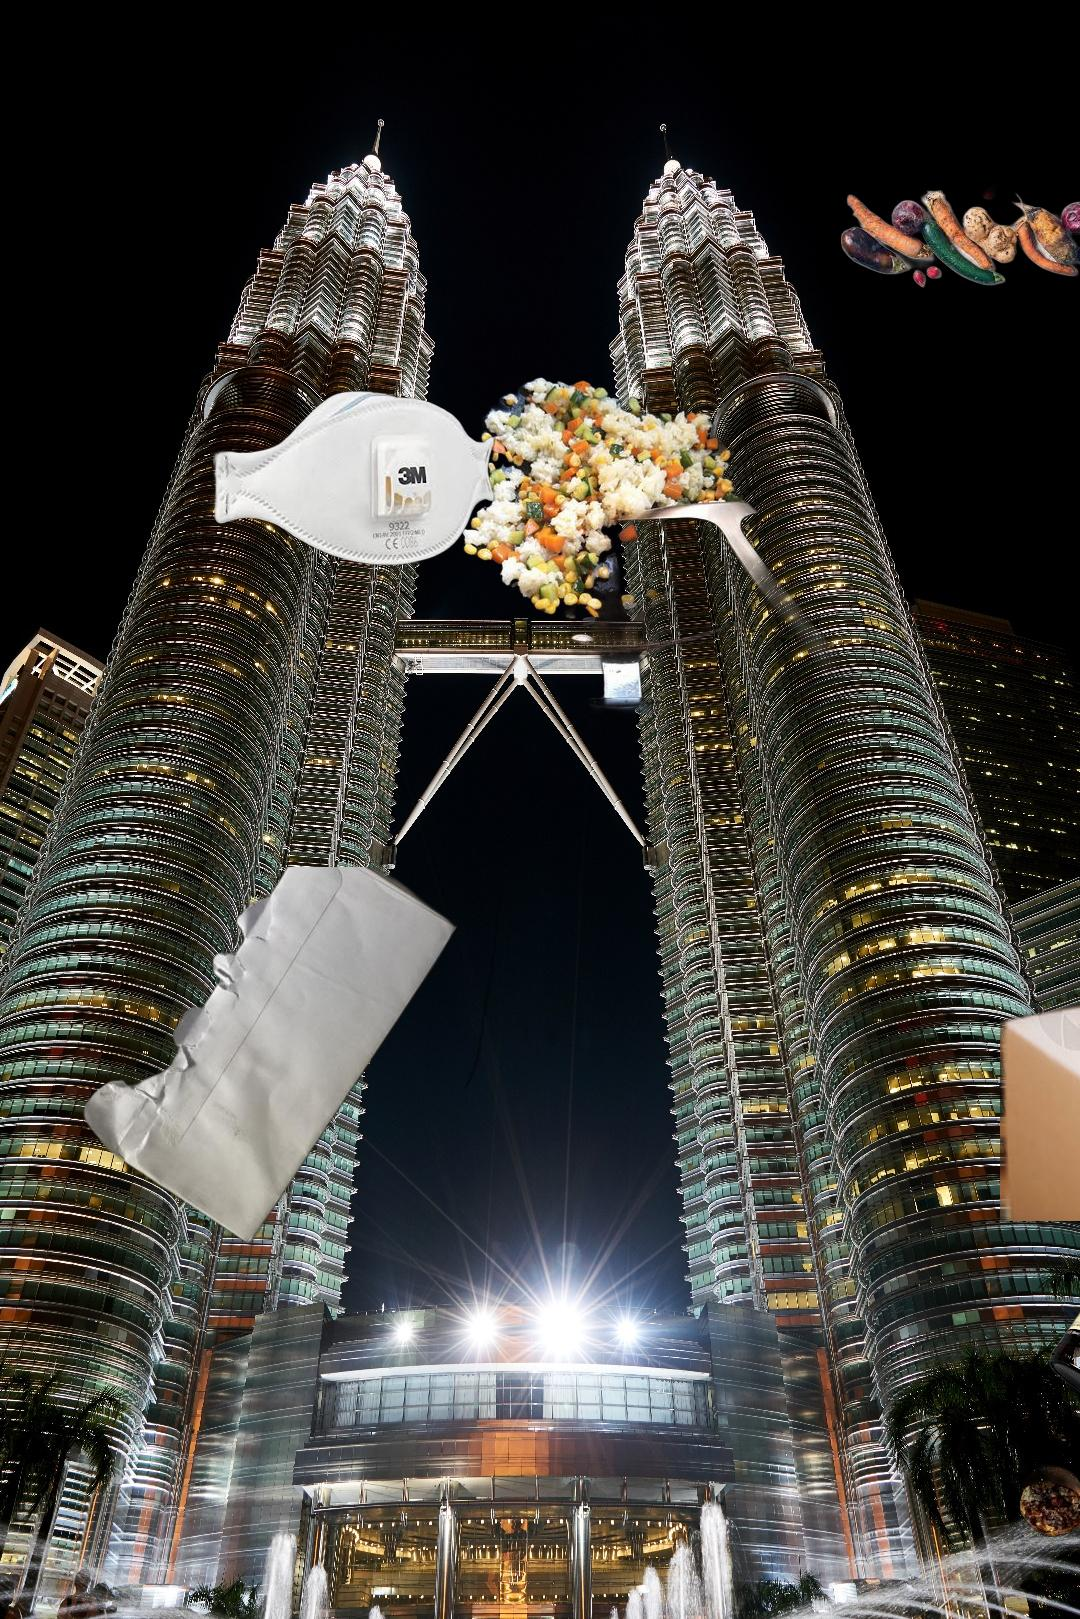biological: (458, 374, 865, 714), (841, 182, 1080, 291), (949, 1435, 1080, 1592)
glass: (1045, 1195, 1080, 1408)
paper: (78, 867, 462, 1246), (1079, 1052, 1080, 1327)
trash: (213, 389, 495, 567)
trashbox-cardboard: (1000, 383, 1080, 1221)
